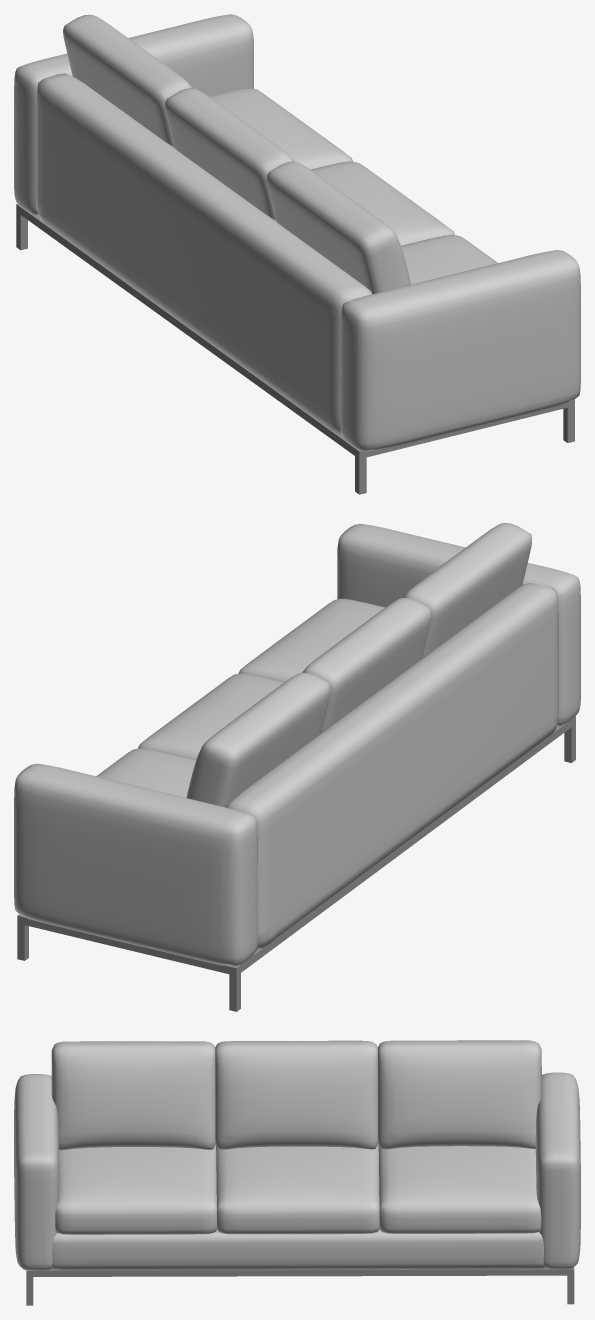
File: sofa1.fbx
3 views of the same model, one above another, from view 1: azimuth 30°, elevation 25°; view 2: azimuth 150°, elevation 25°; view 3: azimuth 270°, elevation 25° (orthographic). The views are drawn at different scales.
Visible parts, largest first — view 1: sofa1; view 2: sofa1; view 3: sofa1.
Boxes of the visible parts, x1=… form: sofa1: x1=14, y1=14, x2=580, y2=494; sofa1: x1=14, y1=523, x2=580, y2=1011; sofa1: x1=14, y1=1040, x2=580, y2=1305.
Size of the model in its own units: 207 by 78.37 by 77.83.
